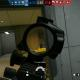Friend_label: (62, 36, 66, 39)
